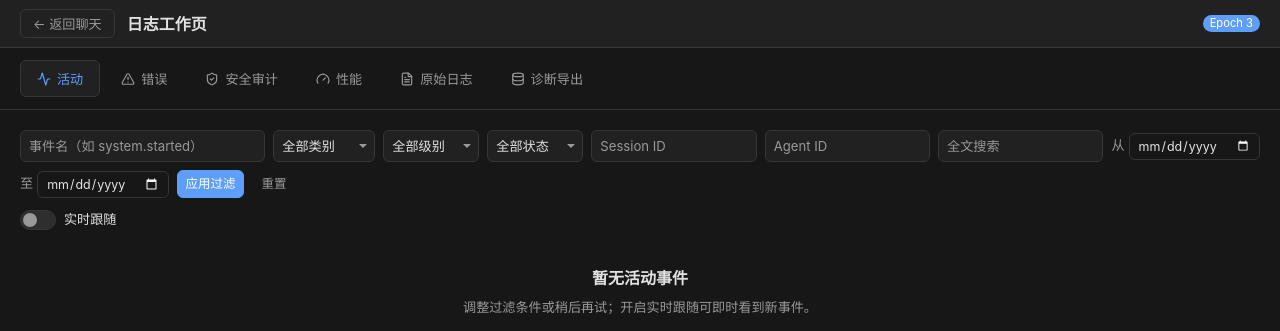
Scenario: LogsPage 性能 tab › 渲染按日指标与柱状条
Expected: the heading "暂无活动事件" is shown, [592, 266, 688, 290]
Step 1. Click the tab with test id "logs-tab-performance" → (339, 78), box [299, 60, 379, 97]
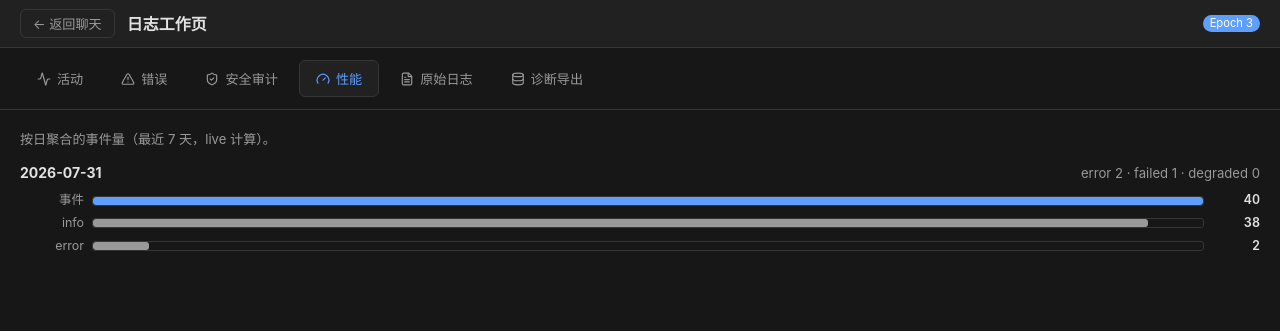
Now the list with test id "metric-list" is shown, box [20, 162, 1260, 256]
Now the text "2026-07-31" is shown, box [20, 162, 102, 183]
Now the text "error 2 · failed 1 · degraded 0" is shown, box [1081, 164, 1260, 183]
